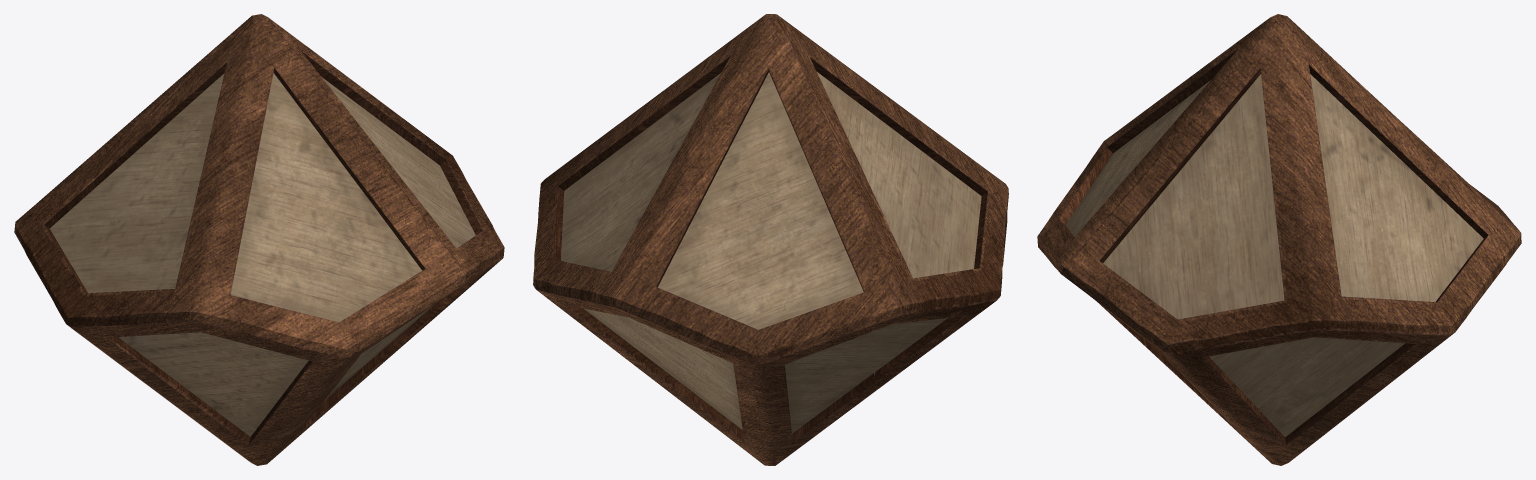
3 renders of one model, left to right at view 1: azimuth 30°, elevation 25°; view 2: azimuth 150°, elevation 25°; view 3: azimuth 270°, elevation 25°, orthographic.
Parts seen in each view (by area): view 1: pPlatonic9; view 2: pPlatonic9; view 3: pPlatonic9.
Part boxes in pixels (x1=…): pPlatonic9: x1=14, y1=14, x2=504, y2=465; pPlatonic9: x1=533, y1=14, x2=1008, y2=465; pPlatonic9: x1=1037, y1=14, x2=1521, y2=465.
Size of the model in its own units: 0.0334 by 0.0338 by 0.0334.
Materials: 1 (1 with a texture image).
